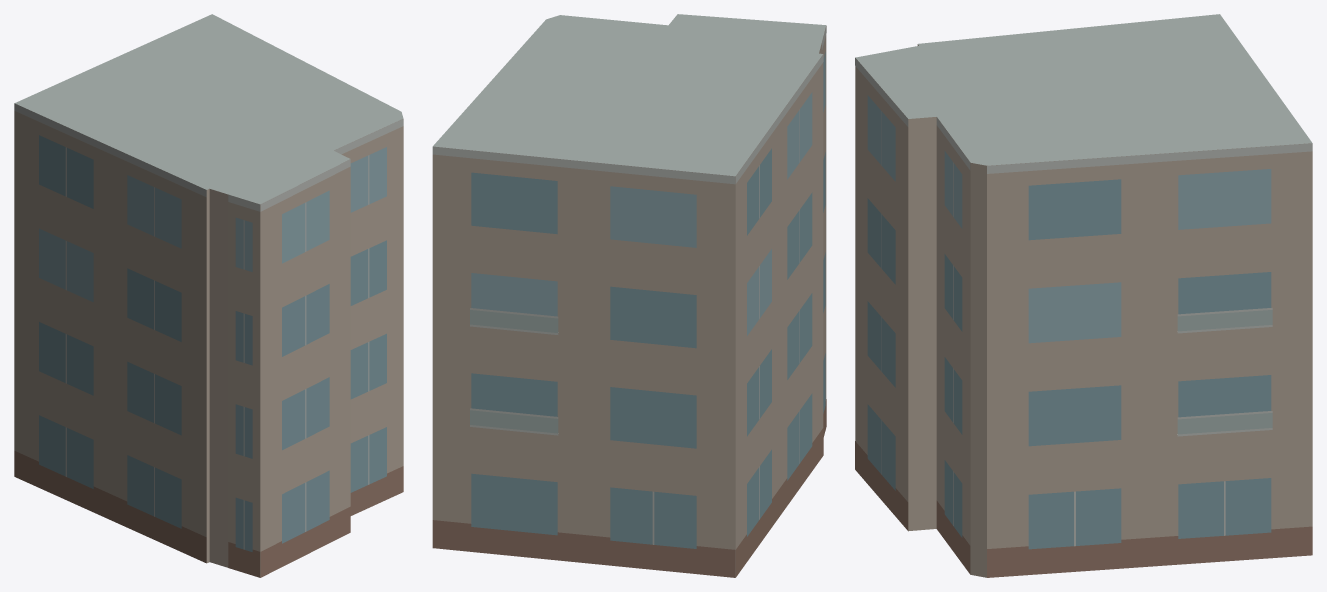
Rendered from survey-upis-32517301.glb.
3 views of the same model, side by side, from view 1: azimuth 30°, elevation 25°; view 2: azimuth 150°, elevation 25°; view 3: azimuth 270°, elevation 25° (orthographic). The views are drawn at different scales.
Parts seen in each view (by area): view 1: survey-upis-32517301.tmp; view 2: survey-upis-32517301.tmp; view 3: survey-upis-32517301.tmp.
Part boxes in pixels (x1,y1,x2,y2): survey-upis-32517301.tmp: (14,14,403,577); survey-upis-32517301.tmp: (432,14,826,577); survey-upis-32517301.tmp: (855,14,1312,577).
Bounding box in the file's own units: 9.64 × 12.2 × 12.28.
